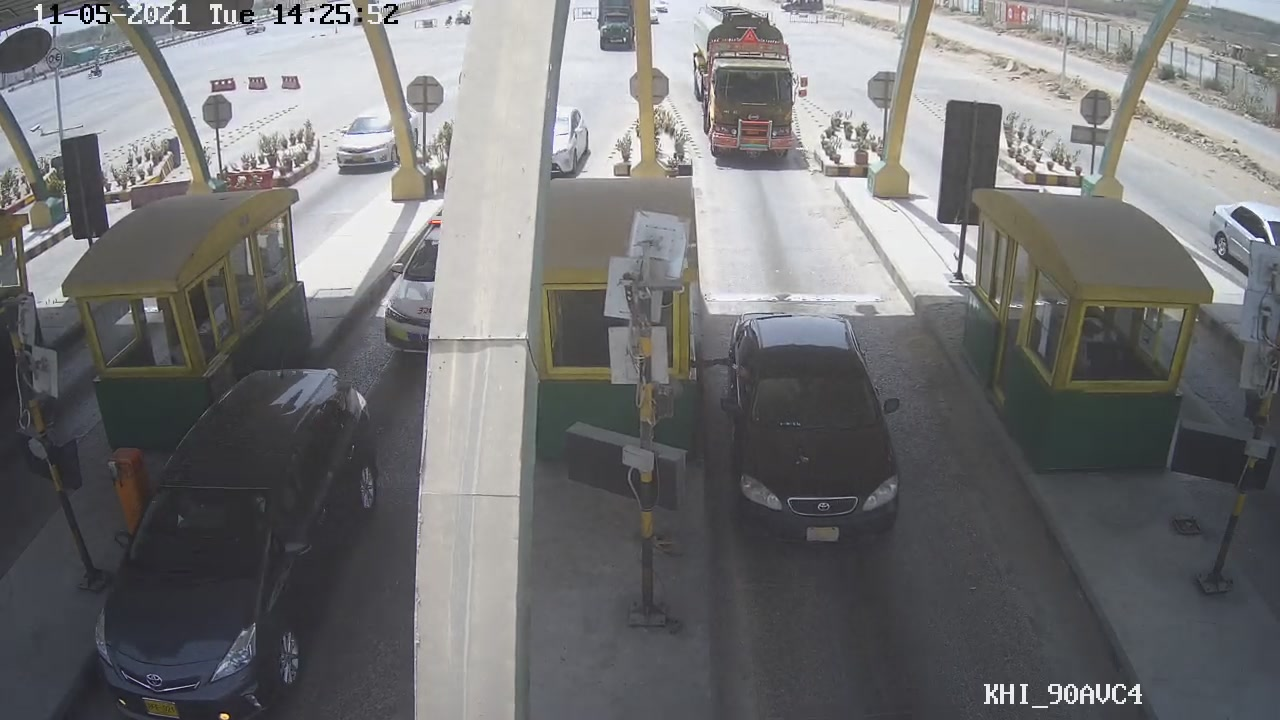F1: (717, 298, 914, 549)
